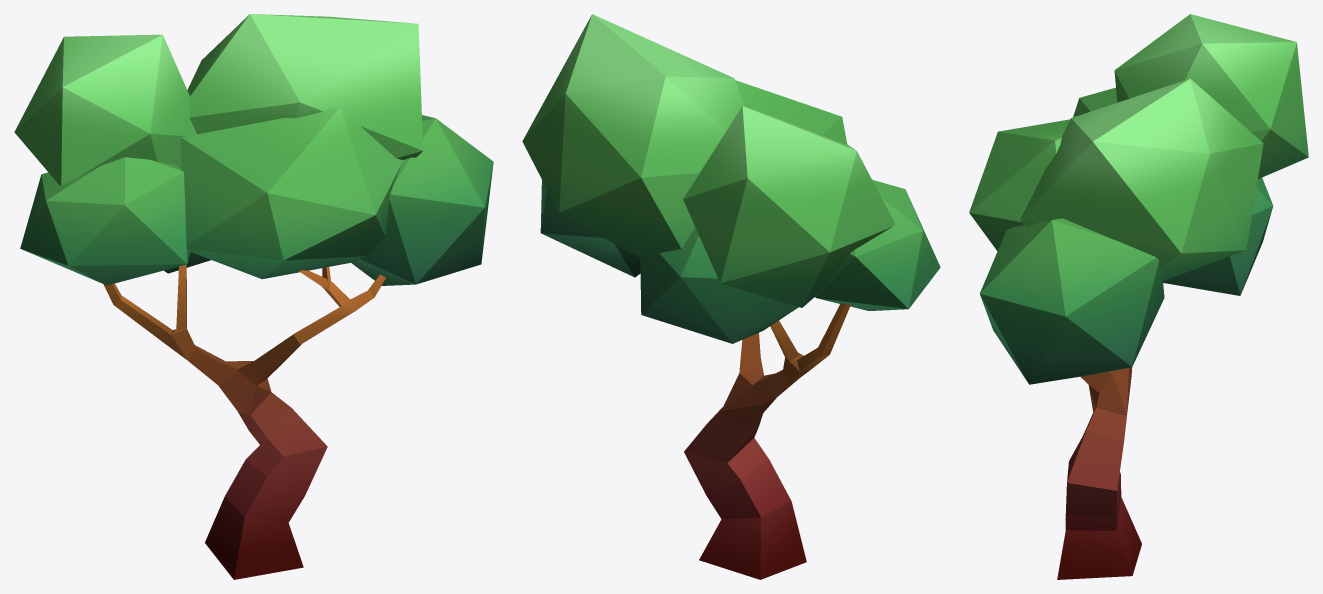
File: Gradient_Tree_Oak_medium_green.glb
3 views of the same model, side by side, from view 1: azimuth 30°, elevation 25°; view 2: azimuth 150°, elevation 25°; view 3: azimuth 270°, elevation 25° (orthographic). The views are drawn at different scales.
Visible parts, largest first — view 1: Oak middle g; view 2: Oak middle g; view 3: Oak middle g.
Part boxes in pixels (x1=…): Oak middle g: x1=14, y1=14, x2=493, y2=579; Oak middle g: x1=522, y1=14, x2=940, y2=579; Oak middle g: x1=969, y1=14, x2=1308, y2=579.
Bounding box in the file's own units: 10.85 × 12.52 × 7.6.
1 material, 1 textured.
